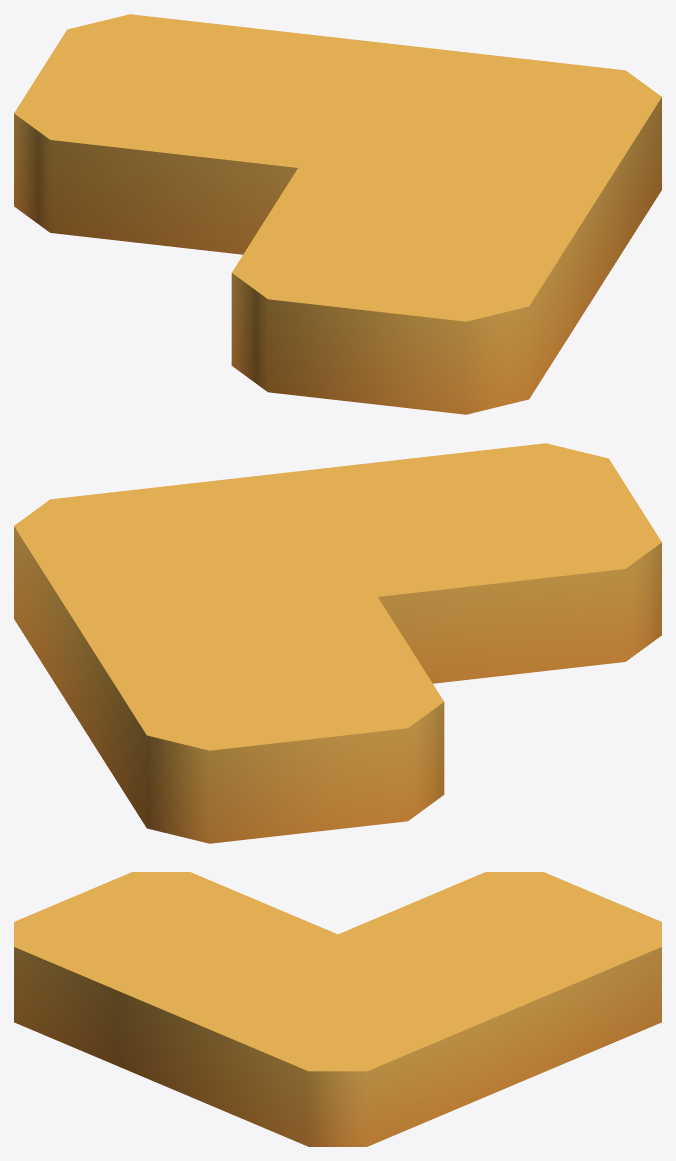
Rendered from n5_n5_arrow_lev5.glb.
3 views of the same model, one above another, from view 1: azimuth 30°, elevation 25°; view 2: azimuth 150°, elevation 25°; view 3: azimuth 270°, elevation 25° (orthographic). The views are drawn at different scales.
Parts seen in each view (by area): view 1: n5_n5_arrow_lev5; view 2: n5_n5_arrow_lev5; view 3: n5_n5_arrow_lev5.
Boxes of the visible parts, x1,y1,x2,y2 form: n5_n5_arrow_lev5: [14, 14, 661, 414]; n5_n5_arrow_lev5: [14, 443, 661, 843]; n5_n5_arrow_lev5: [14, 872, 661, 1146].
Size of the model in its own units: 0.8185 by 0.1447 by 1.13.
Materials: 1 (1 with a texture image).
